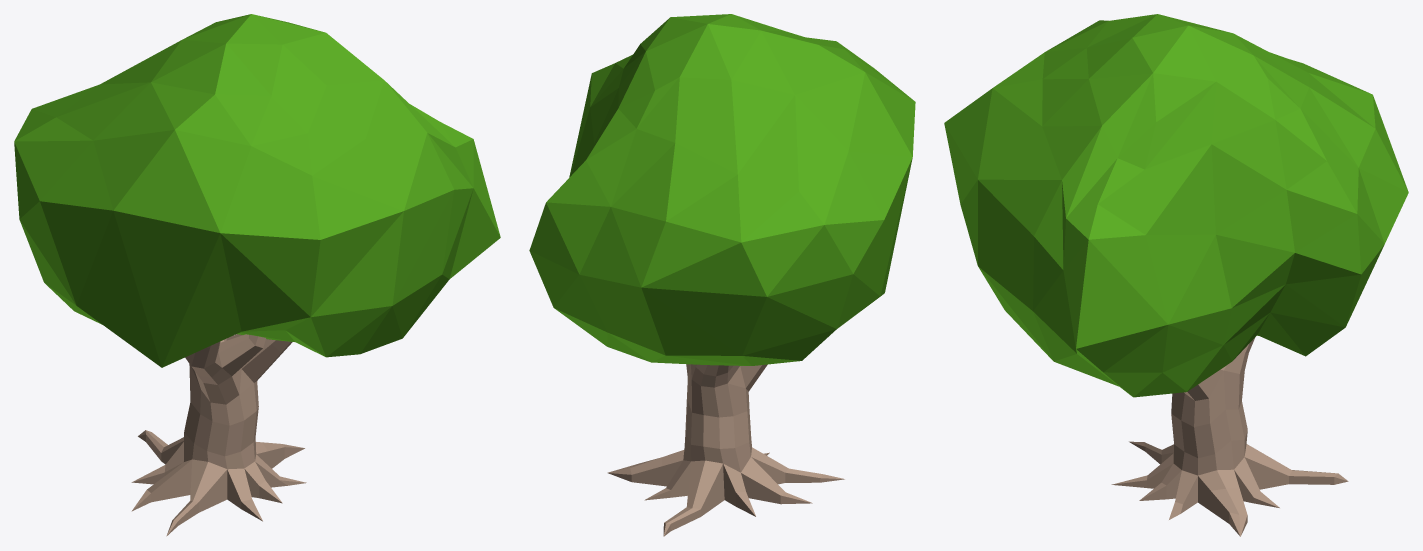
File: Isl_18_Tree_1.fbx
3 renders of one model, left to right at view 1: azimuth 30°, elevation 25°; view 2: azimuth 150°, elevation 25°; view 3: azimuth 270°, elevation 25°, orthographic. The views are drawn at different scales.
Visible parts, largest first — view 1: Isl_18_Tree_1; view 2: Isl_18_Tree_1; view 3: Isl_18_Tree_1.
Part boxes in pixels (left/top/right/bottom): Isl_18_Tree_1: left=14, top=14, right=500, bottom=536; Isl_18_Tree_1: left=529, top=14, right=915, bottom=536; Isl_18_Tree_1: left=944, top=14, right=1408, bottom=536.
Bounding box in the file's own units: 488 × 502 × 563.
1 material, 1 textured.
